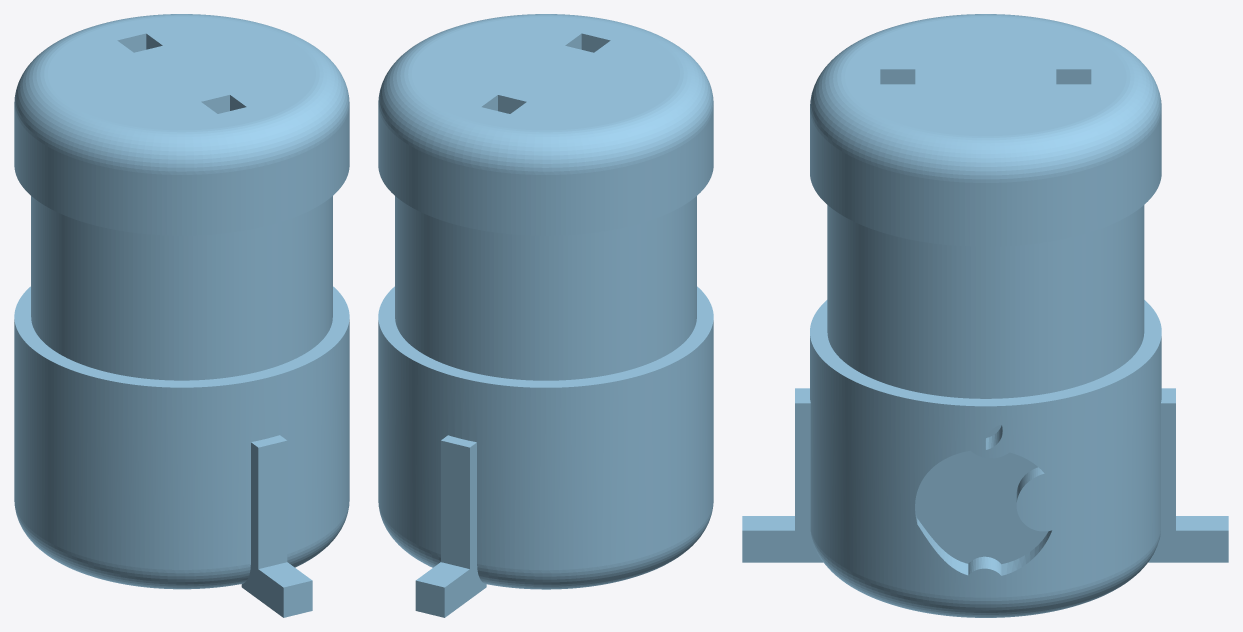
The model's file is Lidar.dae.
3 views of the same model, side by side, from view 1: azimuth 30°, elevation 25°; view 2: azimuth 150°, elevation 25°; view 3: azimuth 270°, elevation 25° (orthographic). The views are drawn at different scales.
Visible parts, largest first — view 1: 5dfb82c4603e6f155419556a; view 2: 5dfb82c4603e6f155419556a; view 3: 5dfb82c4603e6f155419556a.
Boxes of the visible parts, left/top/right/bottom form: 5dfb82c4603e6f155419556a: left=14, top=14, right=349, bottom=617; 5dfb82c4603e6f155419556a: left=378, top=14, right=713, bottom=617; 5dfb82c4603e6f155419556a: left=742, top=14, right=1228, bottom=617.
Bounding box in the file's own units: 0.1 × 0.1383 × 0.15.
